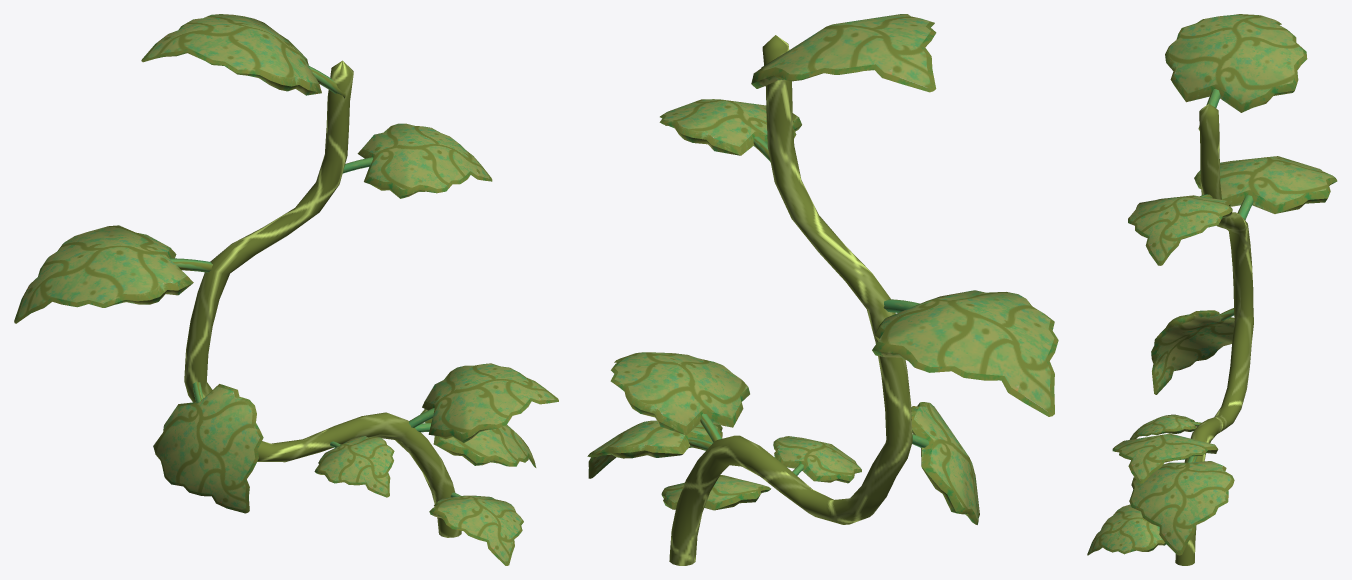
File: CipeLeaves 1.fbx
The picture shows the model from 3 angles, left to right: view 1: azimuth 30°, elevation 25°; view 2: azimuth 150°, elevation 25°; view 3: azimuth 270°, elevation 25°; orthographic projection. The views are drawn at different scales.
Visible parts, largest first — view 1: CipeLeaves; view 2: CipeLeaves; view 3: CipeLeaves.
Part boxes in pixels (x1,y1,x2,y2): CipeLeaves: (14, 14, 558, 565); CipeLeaves: (587, 14, 1058, 565); CipeLeaves: (1087, 14, 1337, 565).
Bounding box in the file's own units: 823 × 900 × 448.
